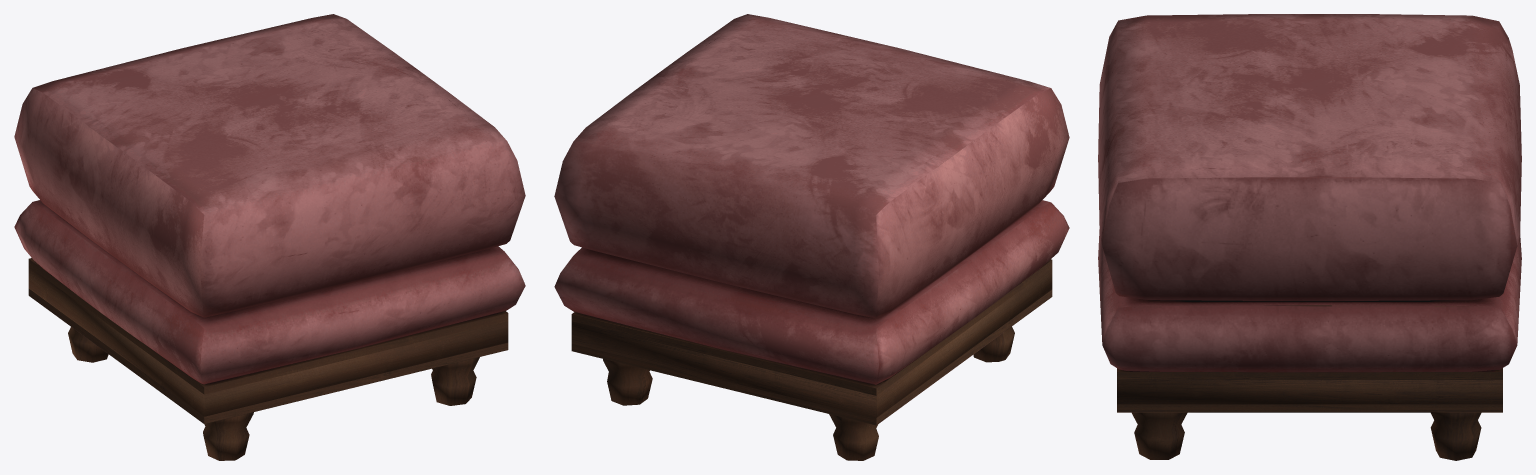
The model's file is Austin Ottoman.FBX.
The picture shows the model from 3 angles, left to right: view 1: azimuth 30°, elevation 25°; view 2: azimuth 150°, elevation 25°; view 3: azimuth 270°, elevation 25°; orthographic projection. The views are drawn at different scales.
Parts seen in each view (by area): view 1: Austin Ottoman; view 2: Austin Ottoman; view 3: Austin Ottoman.
Boxes of the visible parts, left/top/right/bottom form: Austin Ottoman: left=14, top=14, right=525, bottom=460; Austin Ottoman: left=554, top=14, right=1069, bottom=460; Austin Ottoman: left=1098, top=14, right=1521, bottom=460.
Bounding box in the file's own units: 0.7685 × 0.6079 × 0.7616.
Materials: 1 (1 with a texture image).
